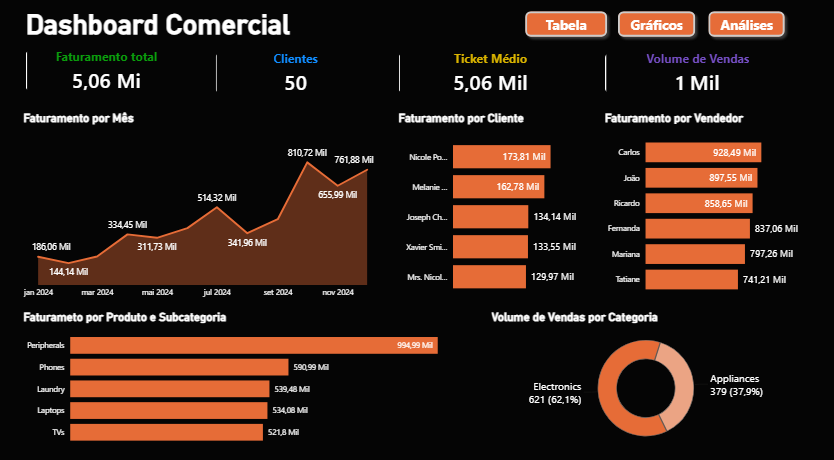

Layout of this report page (visuals, bound fields, positions):
{"tool":"powerbi","page":{"name":"Página 1","canvas":[1280,720],"ordinal":0},"visuals":[{"type":"textbox","box":[31,20.7,424.9,67.9],"z":0},{"type":"lineChart","title":"Faturamento por Mês","fields":{"Y":["fato-venda.Faturamento total"],"Category":["fato-venda.Sale Date.Variação.Date Hierarchy.Year","fato-venda.Sale Date.Variação.Date Hierarchy.Month"]},"box":[30.5,187,572.1,299.2],"z":1000},{"type":"barChart","title":"Faturamento por Cliente","fields":{"Y":["fato-venda.Faturamento total"],"Category":["dim-cliente.cliente"]},"box":[616.5,187,308.9,300.6],"z":2000},{"type":"barChart","title":"Faturamento por Vendedor","fields":{"Y":["fato-venda.Faturamento total"],"Category":["dim-vendedor.vendedor"]},"box":[938.6,186.6,314.8,300.2],"z":3000},{"type":"donutChart","title":"Volume de Vendas por Categoria","fields":{"Category":["dim-produto.categoria"],"Y":["fato-venda.Volume de Vendas"]},"box":[760.8,497,492.6,223],"z":4000},{"type":"barChart","title":"Faturameto por Produto e  Subcategoria","fields":{"Category":["dim-produto.subcategoria","dim-produto.produto"],"Y":["fato-venda.Faturamento total"]},"box":[30.5,497.3,714.8,223],"z":5000},{"type":"cardVisual","title":"Faturamento Total","fields":{"Data":["fato-venda.Faturamento total"]},"box":[20.6,73.7,287.6,97.3],"z":6000},{"type":"cardVisual","title":"Clientes","fields":{"Data":["fato-venda.Clientes"]},"box":[317.1,78.2,286.1,95.9],"z":7000},{"type":"cardVisual","title":"Ticket Médio","fields":{"Data":["fato-venda.Ticket Médio"]},"box":[603.1,78.2,322.9,95.9],"z":8000},{"type":"cardVisual","title":"Vendas","fields":{"Data":["fato-venda.Volume de Vendas"]},"box":[926.1,78.2,325.9,95.9],"z":9000},{"type":"actionButton","box":[955.6,20.6,138.6,57.5],"z":11000},{"type":"actionButton","box":[809.6,20.6,146,57.5],"z":12000},{"type":"actionButton","box":[1095.7,20.6,137.1,57.5],"z":13000}]}

Visuals, with their boxes in screenshot pixels (x1, y1, x2, y2), scaled from the page's 1280x720 canvas onto the 834x460 screenshot:
textbox: <bbox>20, 13, 297, 57</bbox>
"Faturamento por Mês" lineChart: <bbox>20, 119, 393, 311</bbox>
"Faturamento por Cliente" barChart: <bbox>402, 119, 603, 312</bbox>
"Faturamento por Vendedor" barChart: <bbox>612, 119, 817, 311</bbox>
"Volume de Vendas por Categoria" donutChart: <bbox>496, 318, 817, 459</bbox>
"Faturameto por Produto e  Subcategoria" barChart: <bbox>20, 318, 486, 459</bbox>
"Faturamento Total" cardVisual: <bbox>13, 47, 201, 109</bbox>
"Clientes" cardVisual: <bbox>207, 50, 393, 111</bbox>
"Ticket Médio" cardVisual: <bbox>393, 50, 603, 111</bbox>
"Vendas" cardVisual: <bbox>603, 50, 816, 111</bbox>
actionButton: <bbox>623, 13, 713, 50</bbox>
actionButton: <bbox>528, 13, 623, 50</bbox>
actionButton: <bbox>714, 13, 803, 50</bbox>
